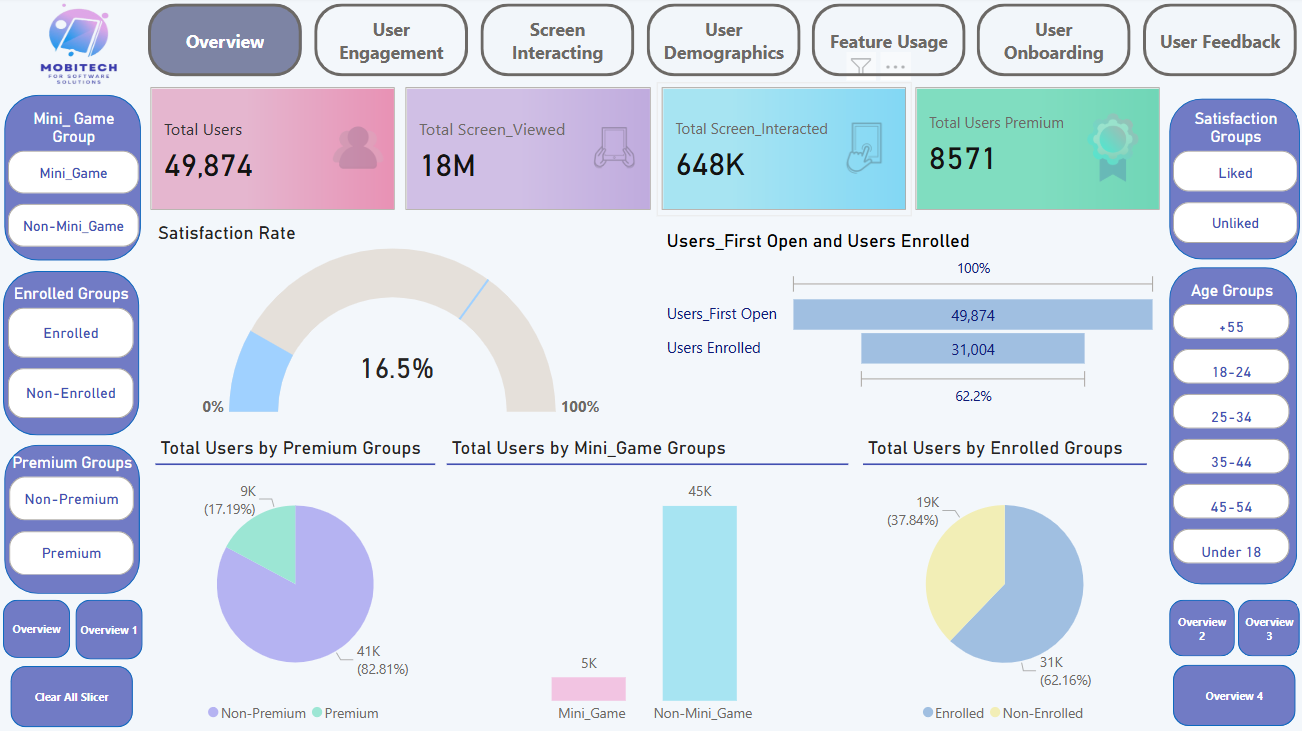

The dashboard page shown, as its layout file describes it:
{"tool":"powerbi","page":{"name":"Overview","canvas":[1280,720],"ordinal":3},"visuals":[{"type":"group","id":"g1","title":"Group 4","box":[4.4,96.9,138.6,162.2],"z":0,"group":"g7"},{"type":"shape","box":[6.1,96.9,133.8,162.2],"z":0,"group":"g1"},{"type":"group","id":"g2","title":"Group 3","box":[1144,100.7,132.8,157.6],"z":0,"group":"g8"},{"type":"shape","box":[1144.8,100.7,128.8,157.6],"z":0,"group":"g2"},{"type":"gauge","fields":{"Y":["Total.Satisfaction Rate"]},"box":[151.4,220.7,485.6,195.5],"z":0,"group":"g9"},{"type":"shape","box":[1145.7,265.6,125.2,310.3],"z":0,"group":"g6"},{"type":"group","id":"g3","title":"Group 2","box":[4.4,269.5,133.3,160.9],"z":0,"group":"g5"},{"type":"shape","box":[4.4,269.5,133.3,160.9],"z":0,"group":"g3"},{"type":"shape","box":[5.8,438.8,132.7,145.9],"z":0,"group":"g4"},{"type":"columnChart","fields":{"Category":["appdata10.Mini_Game Group","appdata10.Satisfaction Groups"],"Y":["Total.Total Users"]},"box":[450,454.6,392.5,265.4],"z":0},{"type":"advancedSlicerVisual","fields":{"Values":["appdata10.Satisfaction Groups"]},"box":[1144,111.7,132.8,135.9],"z":1000,"group":"g2"},{"type":"advancedSlicerVisual","title":"  Mini_ Game Group","fields":{"Values":["appdata10.Mini_Game Group"]},"box":[4.4,112.1,138.6,140.3],"z":1000,"group":"g1"},{"type":"advancedSlicerVisual","fields":{"Values":["appdata10.Age Groups"]},"box":[1144,278.8,125,285.8],"z":1000,"group":"g6"},{"type":"advancedSlicerVisual","fields":{"Values":["appdata10.Enrolled Groups"]},"box":[4.4,282.8,133.3,136.7],"z":1000,"group":"g3"},{"type":"card","fields":{"Values":["Total.Satisfaction Rate"]},"box":[312.7,326.3,154,72.8],"z":1000,"group":"g9"},{"type":"advancedSlicerVisual","fields":{"Values":["appdata10.Premium Groups"]},"box":[5.8,447.9,132.8,123.8],"z":1000,"group":"g4"},{"type":"pieChart","fields":{"Category":["appdata10.Enrolled Groups"],"Y":["Total.Total Users"]},"box":[846.2,456.1,291,264.1],"z":1000},{"type":"pieChart","fields":{"Category":["appdata10.Premium Groups"],"Y":["Total.Total Users"]},"box":[154.1,456.1,292.3,264.1],"z":2000},{"type":"group","id":"g4","title":"Group 1","box":[5.8,438.8,132.8,145.9],"z":3000},{"type":"group","id":"g5","title":"Group 1","box":[4.4,269.5,132.8,160.5],"z":4000},{"type":"group","id":"g6","title":"Group 1","box":[1144,265.6,128.4,310.8],"z":5000},{"type":"group","id":"g7","title":"Group 2","box":[4.4,96.9,138.6,162],"z":6000},{"type":"group","id":"g8","title":"Group 2","box":[1144,100.7,132.8,157.6],"z":7000},{"type":"shape","box":[75.9,591,65.7,58.4],"z":8000},{"type":"cardVisual","fields":{"Data":["Total.Total Users"]},"box":[144.3,84.4,249.5,130.8],"z":11000},{"type":"cardVisual","fields":{"Data":["Total.Total Screen_Viewed"]},"box":[393.8,84.4,250.7,130.8],"z":12000},{"type":"cardVisual","fields":{"Data":["Total.Total Screen_Interacted"]},"box":[644.4,84.4,249.5,130.8],"z":13000},{"type":"cardVisual","fields":{"Data":["Total.Total Users Premium Feature"]},"box":[892.7,84.4,249.5,130.8],"z":14000},{"type":"group","id":"g9","title":"Group 6","box":[151.4,220.7,485.6,195.5],"z":15000},{"type":"funnel","fields":{"Y":["Total.Total Users_First open","Total.Total Users_Enrolled"]},"box":[649.3,228.7,490.4,178.5],"z":16000},{"type":"actionButton","box":[634.1,7.9,150.6,71.3],"z":18000},{"type":"actionButton","box":[309.1,7.9,150.6,71.3],"z":19000},{"type":"actionButton","box":[471.6,7.9,150.6,71.3],"z":20000},{"type":"actionButton","box":[146.6,7.9,150.6,71.3],"z":21000},{"type":"actionButton","box":[796.5,7.9,150.6,71.3],"z":22000},{"type":"actionButton","box":[957.7,7.9,150.6,71.3],"z":23000},{"type":"actionButton","box":[1120.2,7.9,150.6,71.3],"z":24000},{"type":"image","box":[28.1,0,101.5,96.6],"z":25000},{"type":"shape","box":[11.7,655.2,119.7,59.8],"z":26000},{"type":"shape","box":[1145.5,591,64.2,55.4],"z":27000},{"type":"shape","box":[4.4,591,65.7,56.9],"z":28000},{"type":"shape","box":[1212.6,591,61.3,55.4],"z":31000},{"type":"shape","box":[1149.5,654.2,119.8,59.9],"z":32000}]}

Visuals, with their boxes in screenshot pixels (x1, y1, x2, y2), scaled from the page's 1280x720 canvas onto the 1302x731 screenshot:
"Group 4" group: detection(4, 98, 145, 263)
shape: detection(6, 98, 142, 263)
"Group 3" group: detection(1164, 102, 1299, 262)
shape: detection(1164, 102, 1295, 262)
gauge - Total.Satisfaction Rate: detection(154, 224, 648, 423)
shape: detection(1165, 270, 1293, 585)
"Group 2" group: detection(4, 274, 140, 437)
shape: detection(4, 274, 140, 437)
shape: detection(6, 446, 141, 594)
columnChart - appdata10.Mini_Game Group x appdata10.Satisfaction Groups: detection(458, 462, 857, 730)
advancedSlicerVisual - appdata10.Satisfaction Groups: detection(1164, 113, 1299, 251)
"  Mini_ Game Group" advancedSlicerVisual: detection(4, 114, 145, 256)
advancedSlicerVisual - appdata10.Age Groups: detection(1164, 283, 1291, 573)
advancedSlicerVisual - appdata10.Enrolled Groups: detection(4, 287, 140, 426)
card - Total.Satisfaction Rate: detection(318, 331, 475, 405)
advancedSlicerVisual - appdata10.Premium Groups: detection(6, 455, 141, 580)
pieChart - appdata10.Enrolled Groups x Total.Total Users: detection(861, 463, 1157, 730)
pieChart - appdata10.Premium Groups x Total.Total Users: detection(157, 463, 454, 730)
"Group 1" group: detection(6, 446, 141, 594)
"Group 1" group: detection(4, 274, 140, 437)
"Group 1" group: detection(1164, 270, 1294, 585)
"Group 2" group: detection(4, 98, 145, 263)
"Group 2" group: detection(1164, 102, 1299, 262)
shape: detection(77, 600, 144, 659)
cardVisual - Total.Total Users: detection(147, 86, 401, 218)
cardVisual - Total.Total Screen_Viewed: detection(401, 86, 656, 218)
cardVisual - Total.Total Screen_Interacted: detection(655, 86, 909, 218)
cardVisual - Total.Total Users Premium Feature: detection(908, 86, 1162, 218)
"Group 6" group: detection(154, 224, 648, 423)
funnel - Total.Total Users_First open x Total.Total Users_Enrolled: detection(660, 232, 1159, 413)
actionButton: detection(645, 8, 798, 80)
actionButton: detection(314, 8, 468, 80)
actionButton: detection(480, 8, 633, 80)
actionButton: detection(149, 8, 302, 80)
actionButton: detection(810, 8, 963, 80)
actionButton: detection(974, 8, 1127, 80)
actionButton: detection(1139, 8, 1293, 80)
image: detection(29, 0, 132, 98)
shape: detection(12, 665, 134, 726)
shape: detection(1165, 600, 1230, 656)
shape: detection(4, 600, 71, 658)
shape: detection(1233, 600, 1296, 656)
shape: detection(1169, 664, 1291, 725)
